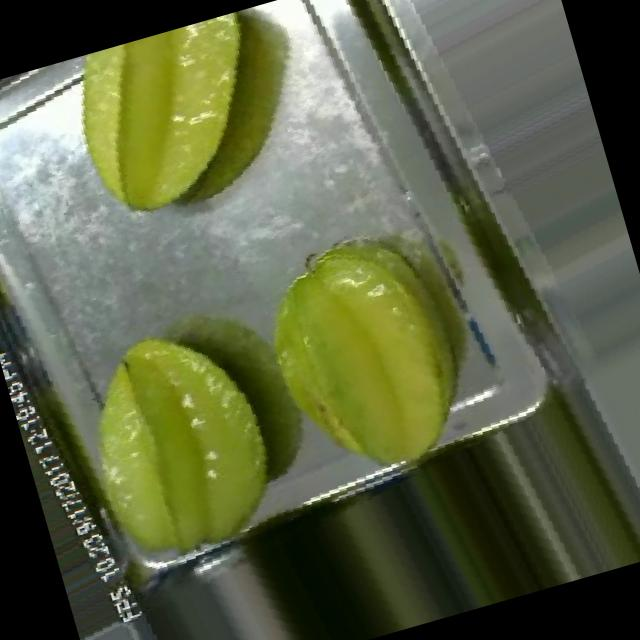fruit: (190, 190, 521, 534), (18, 280, 334, 618), (15, 0, 328, 259)
